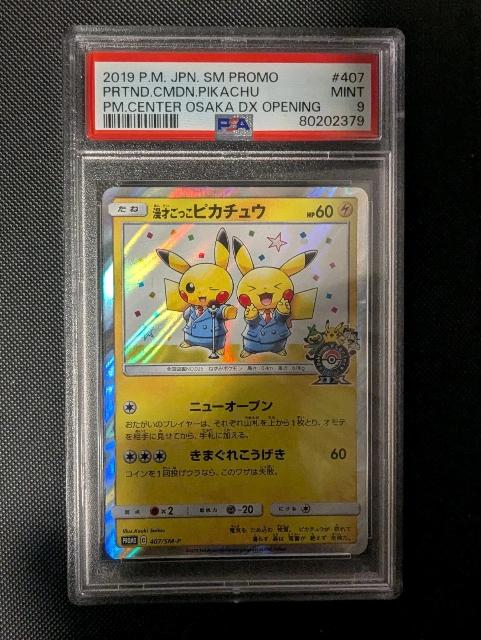Card: (97, 181, 375, 564)
Name: (146, 197, 272, 224)
